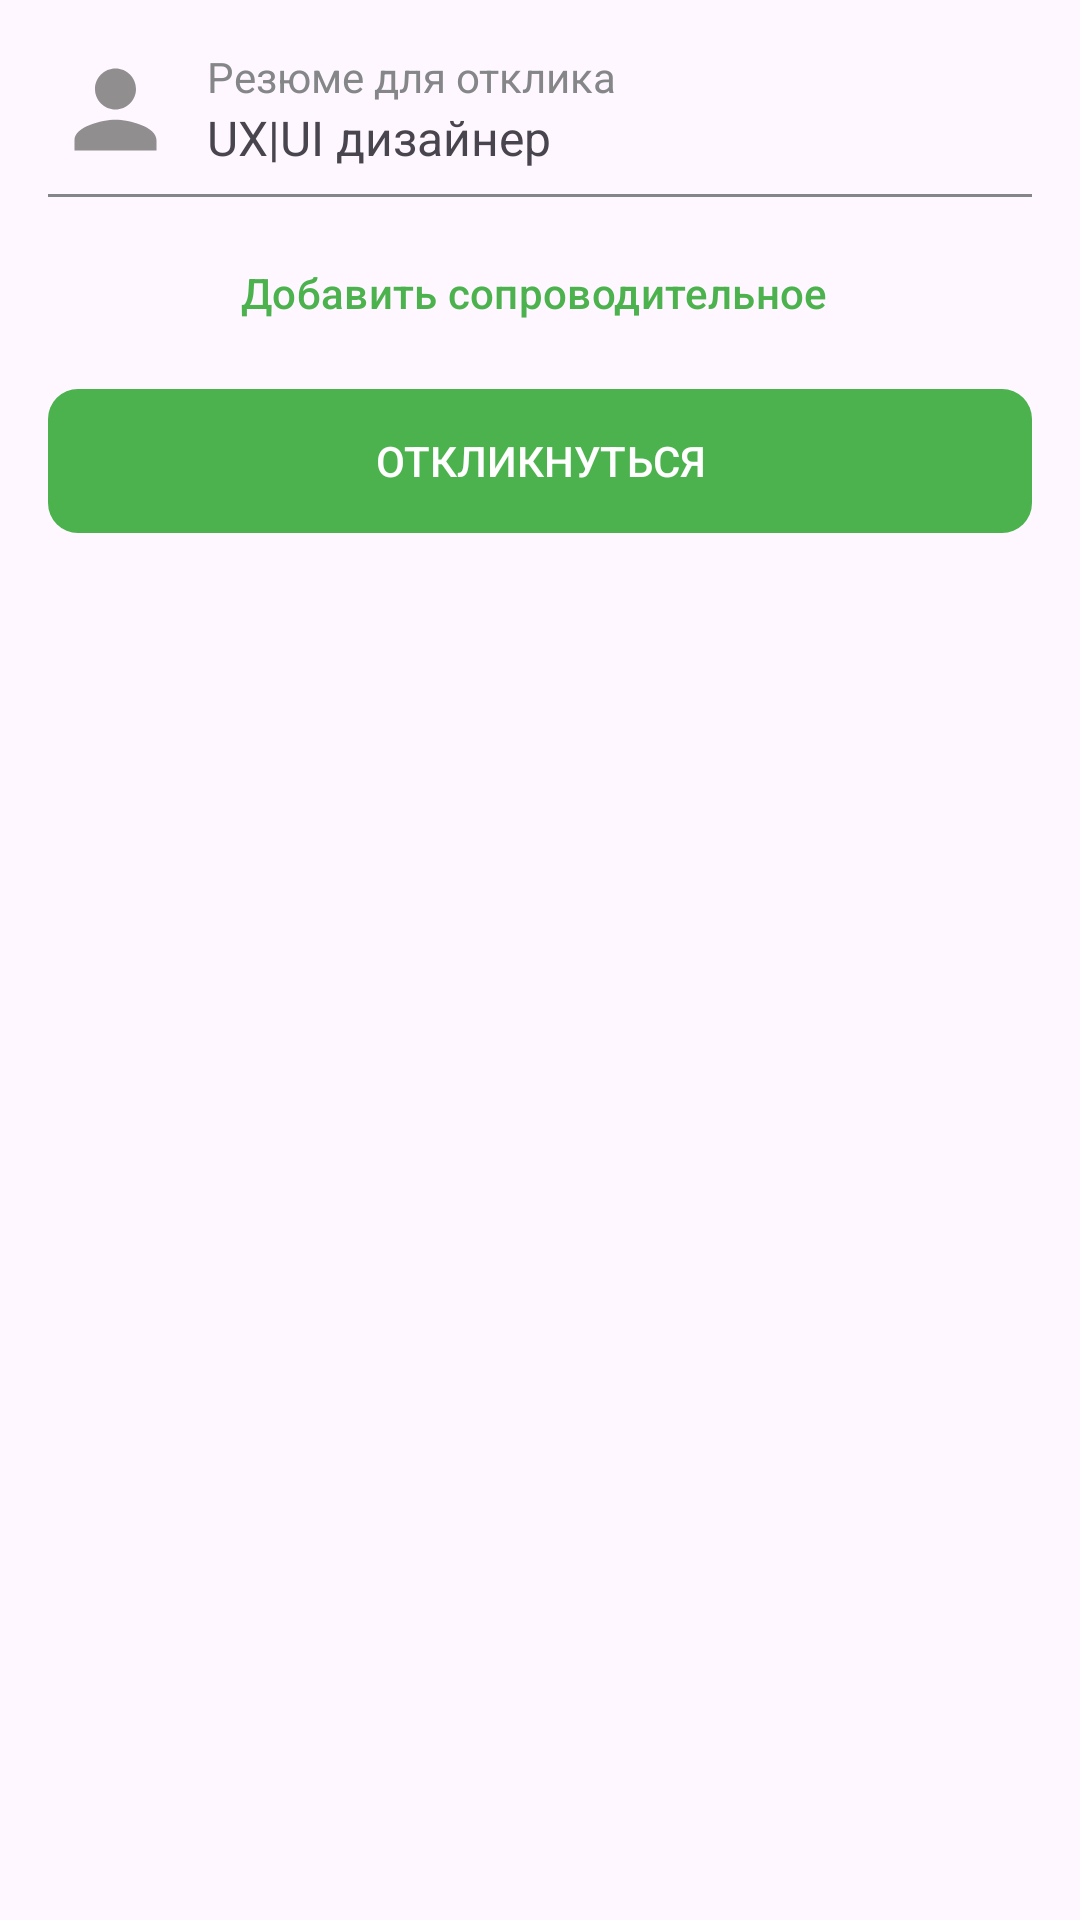

Icon click points for this 1080w x 1920h phone screenshot, format (x,y):
person: (115,109)
